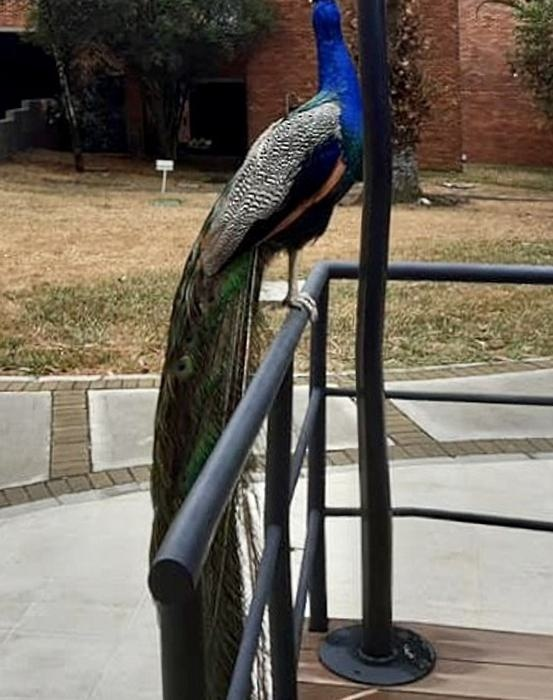peacock: (109, 23, 382, 562)
